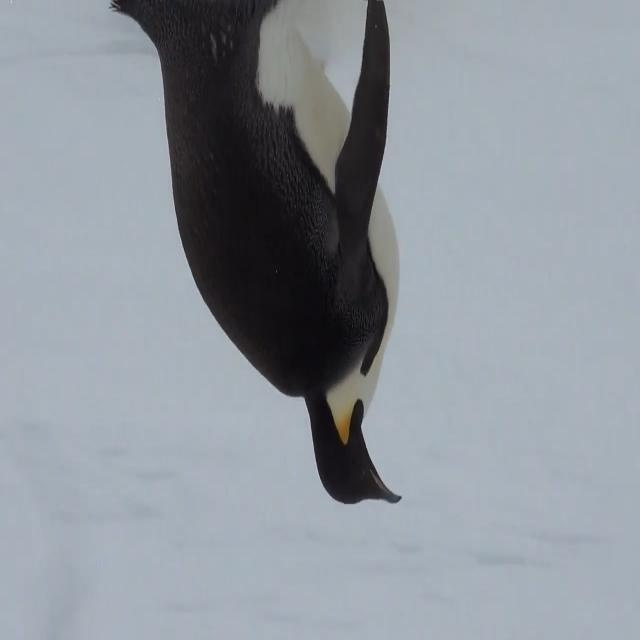penguin: (109, 2, 401, 505)
